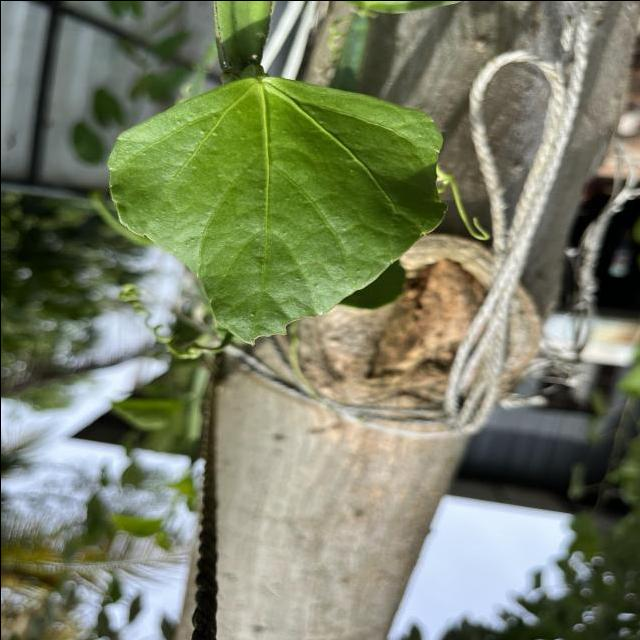Cissus quadrangularis: (104, 71, 452, 347)
